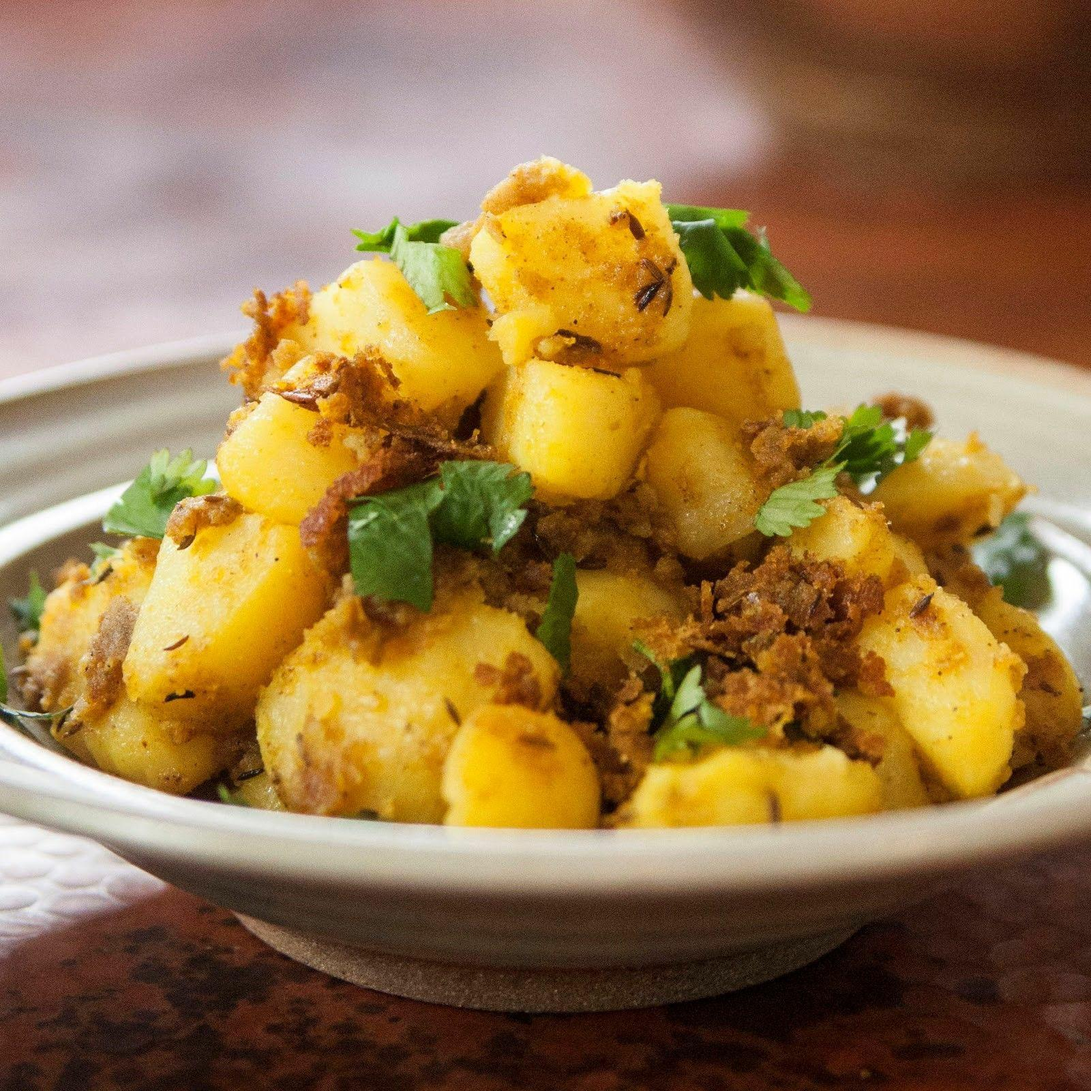AlooMasala: (26, 159, 1073, 828)
